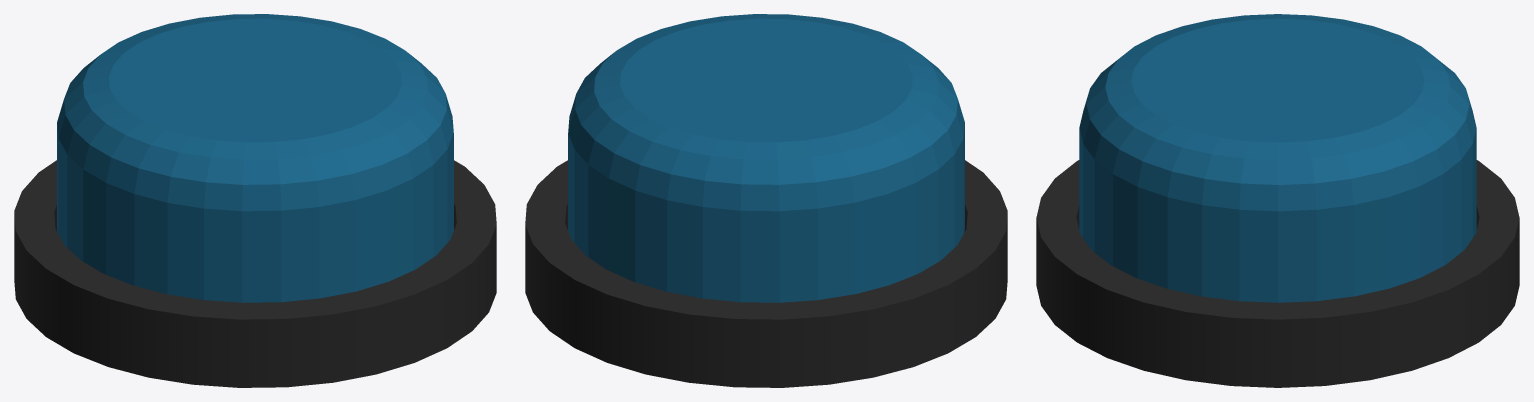
File: boutton.fbx
3 views of the same model, side by side, from view 1: azimuth 30°, elevation 25°; view 2: azimuth 150°, elevation 25°; view 3: azimuth 270°, elevation 25° (orthographic).
Visible parts, largest first — view 1: boutton, support_btn; view 2: boutton, support_btn; view 3: boutton, support_btn.
Part boxes in pixels (x1=…): boutton: x1=57, y1=14, x2=453, y2=302; support_btn: x1=14, y1=160, x2=496, y2=387; boutton: x1=568, y1=14, x2=964, y2=302; support_btn: x1=525, y1=160, x2=1007, y2=387; boutton: x1=1079, y1=14, x2=1476, y2=302; support_btn: x1=1036, y1=160, x2=1519, y2=387.
Size of the model in its own units: 200 by 93.75 by 200.
Materials: 1 (1 with a texture image).
